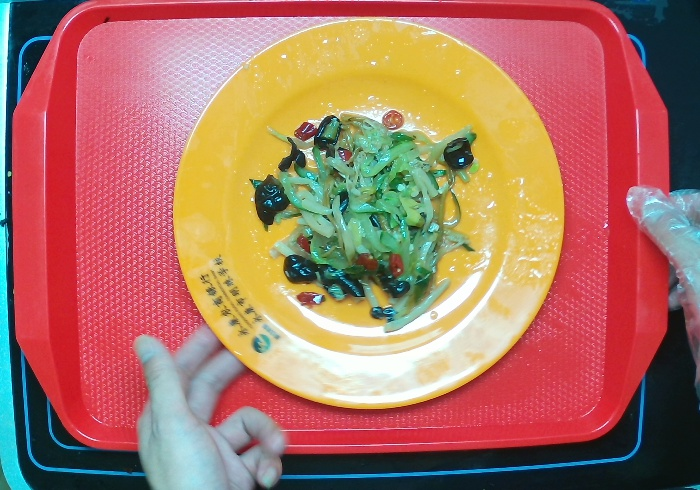YKMZ-Ju_Se_Mian_Pan: (171, 17, 567, 412)
